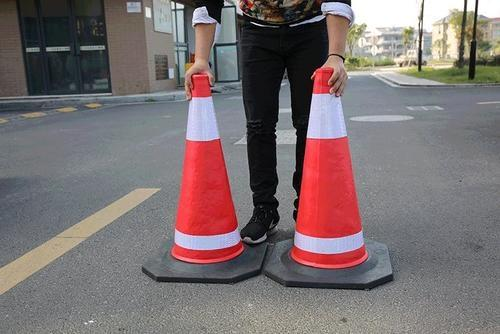cone_barrel: (286, 66, 373, 270), (162, 72, 247, 266)
